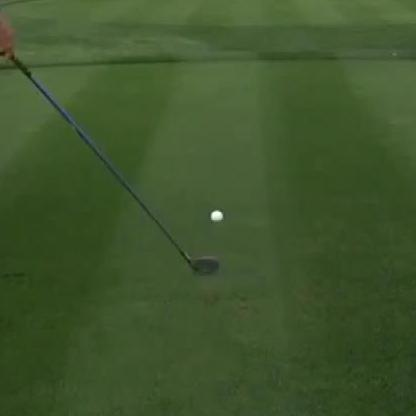golfball: (207, 208, 222, 224)
